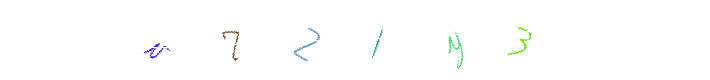1: (338, 0, 418, 80)
2: (315, 0, 395, 80)
3: (482, 0, 562, 80)
7: (192, 0, 272, 80)
V: (185, 0, 265, 80)
Y: (395, 0, 475, 80)
